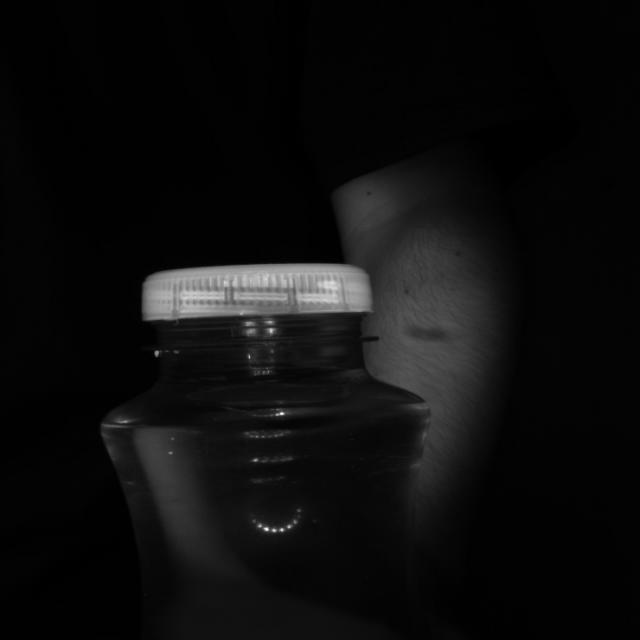Not Good: (140, 261, 380, 347)
